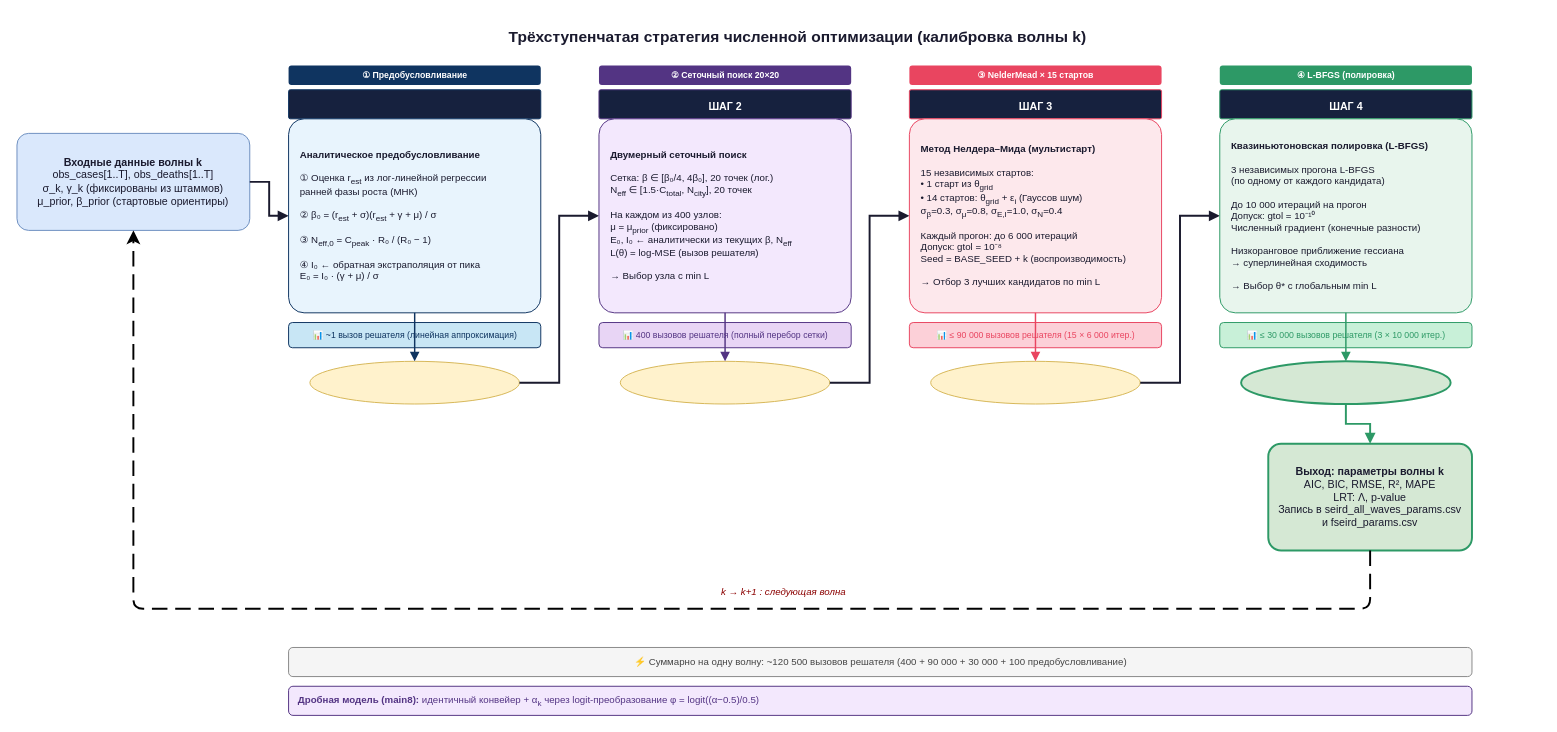
Image size: 1557x732. Some labels were removed from this diagram. Each missing label, with the box of its shape:
3 кандидата: θ c1 , θ c2 , θ c3: (930, 360, 1140, 404)
θ grid — лучший узел сетки: (619, 360, 830, 404)
θ* = (β*, μ*, E₀*, I₀*, N* eff [, α* k ]): (1240, 360, 1451, 404)
θ₀ = (β₀, μ₀, E₀, I₀, N eff,0 ): (309, 360, 519, 404)
